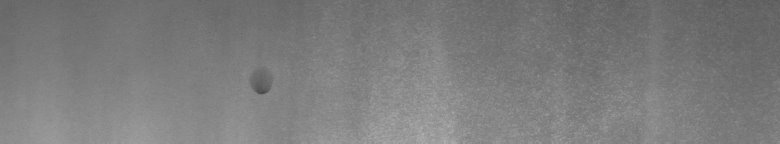fi: (250, 80, 272, 100)
